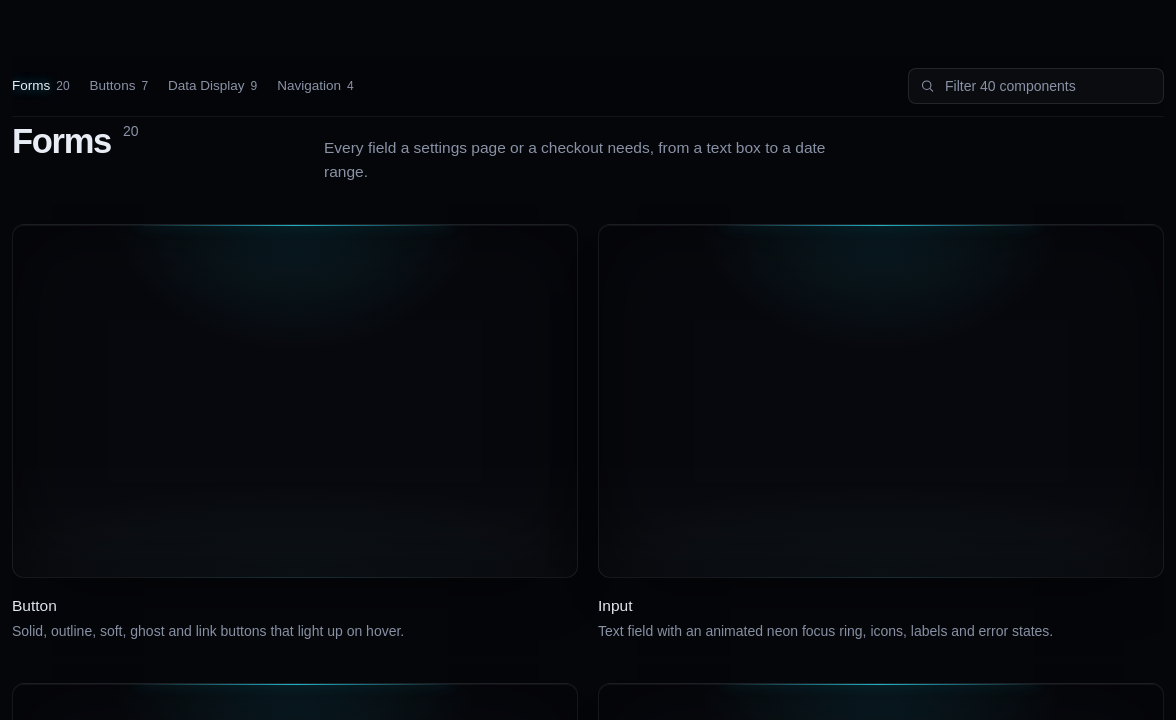
Test: ComponentGallery › filters by name and says when nothing matches
Type "Button" into the search field named "Filter components" at (1036, 86), box [908, 68, 1164, 104]
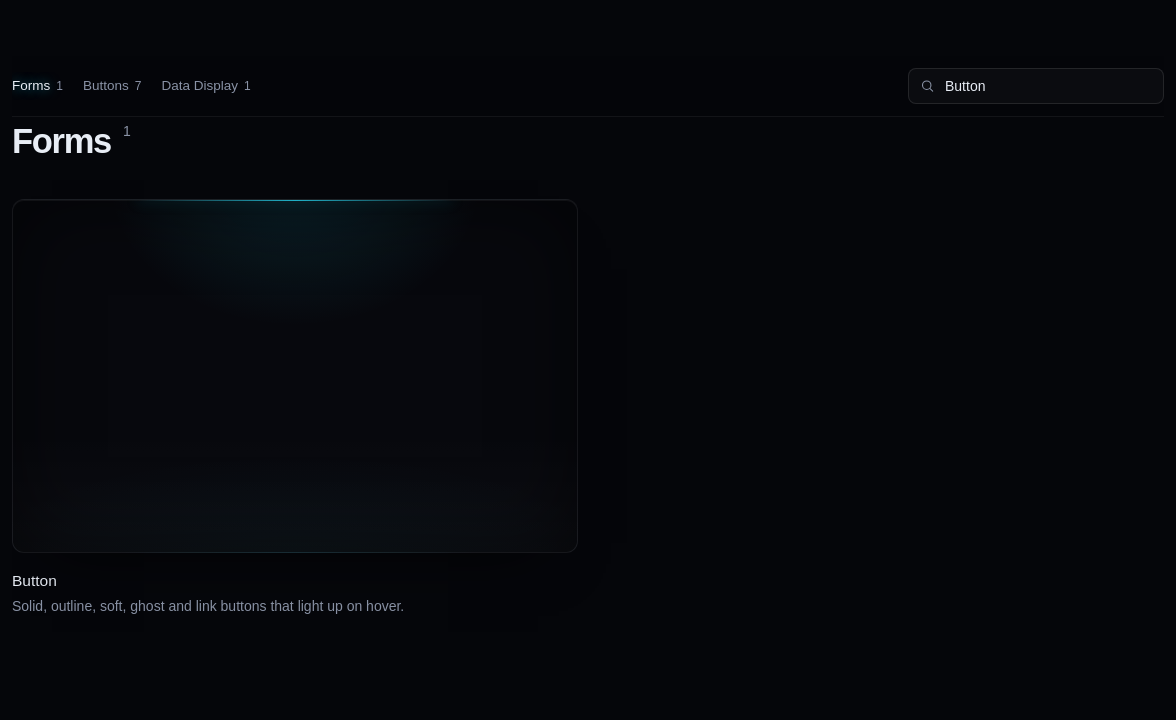
Expected: the link "Button" is shown, [12, 569, 57, 592]
Replace the text in the search field named "Filter components" with "zzzz-nothing" at (1036, 86), box [908, 68, 1164, 104]
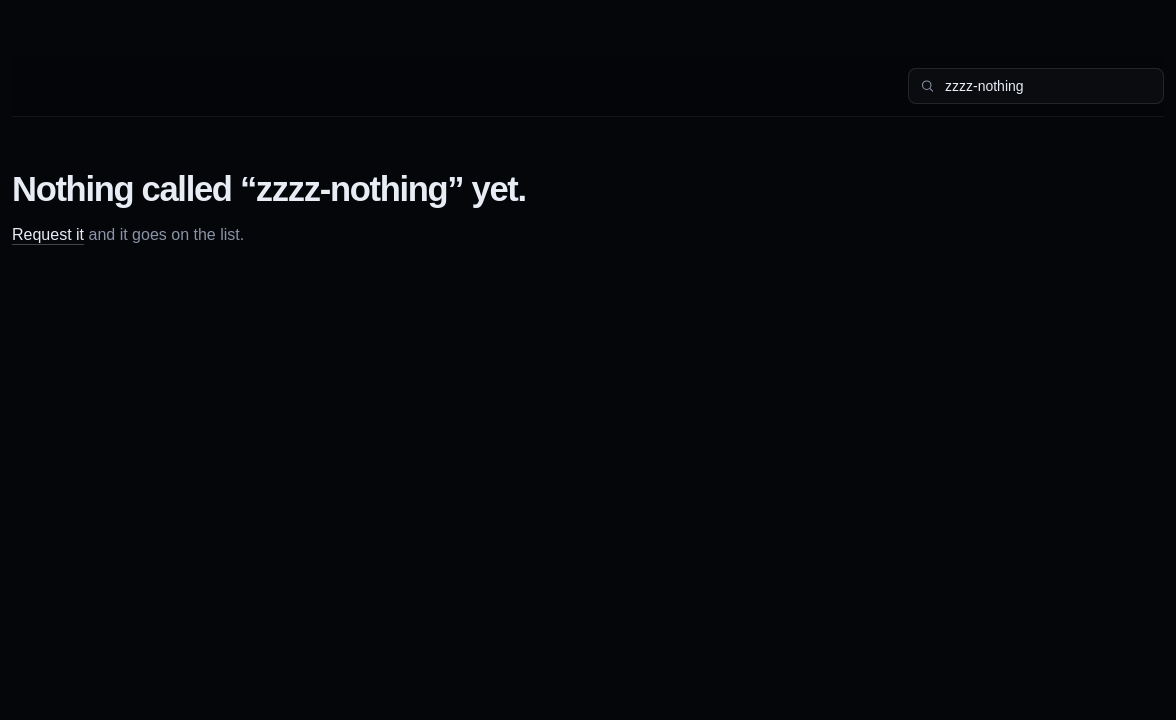
Expected: the text "Nothing called “zzzz-nothing” yet." is shown, [12, 170, 526, 208]
